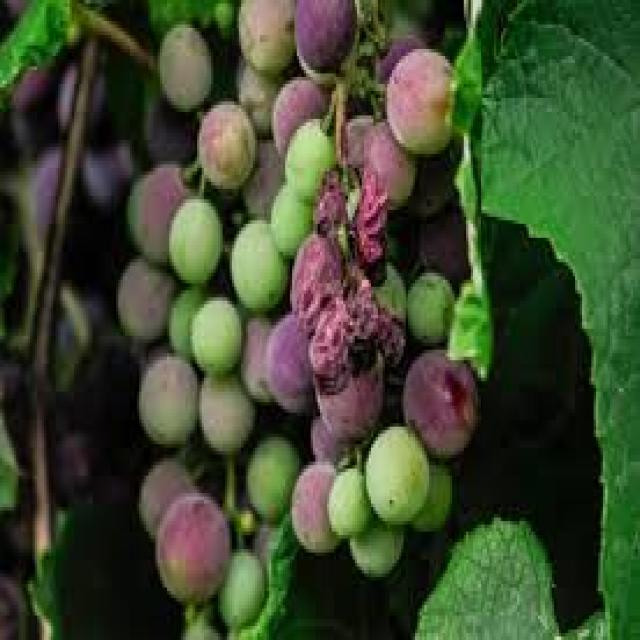organic waste: (475, 0, 638, 637), (413, 511, 563, 636), (438, 133, 494, 378), (153, 482, 227, 602), (399, 346, 475, 455), (232, 514, 292, 637), (74, 325, 146, 427), (387, 45, 457, 147), (313, 346, 385, 444), (0, 0, 88, 80), (123, 161, 192, 262), (135, 339, 197, 448), (51, 388, 104, 507), (445, 0, 494, 126), (366, 426, 427, 524), (192, 98, 258, 185), (23, 143, 79, 245), (285, 228, 343, 326), (225, 213, 285, 304), (322, 444, 378, 539), (359, 115, 415, 210), (134, 455, 195, 542), (244, 430, 299, 525), (264, 304, 313, 409), (197, 364, 255, 451), (269, 74, 329, 158), (292, 0, 355, 77), (155, 17, 209, 105), (165, 192, 218, 280), (114, 255, 174, 332), (288, 454, 338, 546), (401, 266, 455, 350), (56, 49, 104, 143), (142, 80, 197, 161), (232, 52, 285, 136), (283, 112, 334, 199), (0, 346, 32, 482), (86, 133, 141, 210), (343, 507, 404, 574), (213, 546, 264, 626), (234, 0, 292, 70), (190, 294, 239, 374), (146, 0, 237, 42), (165, 276, 211, 357), (415, 210, 468, 280), (371, 35, 427, 98), (60, 290, 111, 357), (239, 308, 278, 395), (350, 168, 387, 259), (267, 178, 308, 256), (63, 213, 116, 273), (239, 136, 278, 217), (332, 270, 376, 340), (408, 144, 452, 214), (0, 479, 32, 563), (7, 45, 51, 105), (311, 158, 348, 228), (309, 409, 357, 462), (371, 304, 410, 367), (7, 109, 53, 158), (0, 566, 32, 636), (336, 105, 374, 157), (380, 203, 413, 262), (374, 259, 404, 311), (93, 472, 130, 511), (2, 0, 27, 17)
